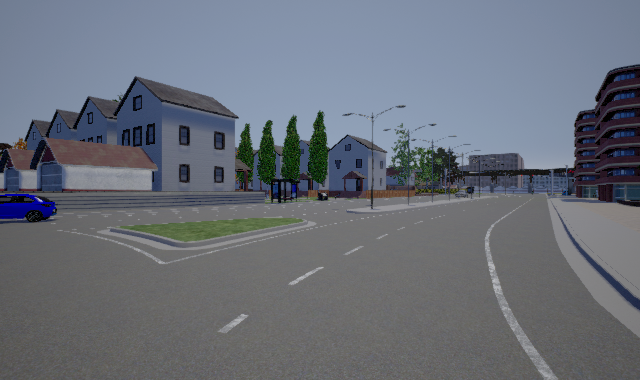vehicle: (1, 194, 57, 223)
